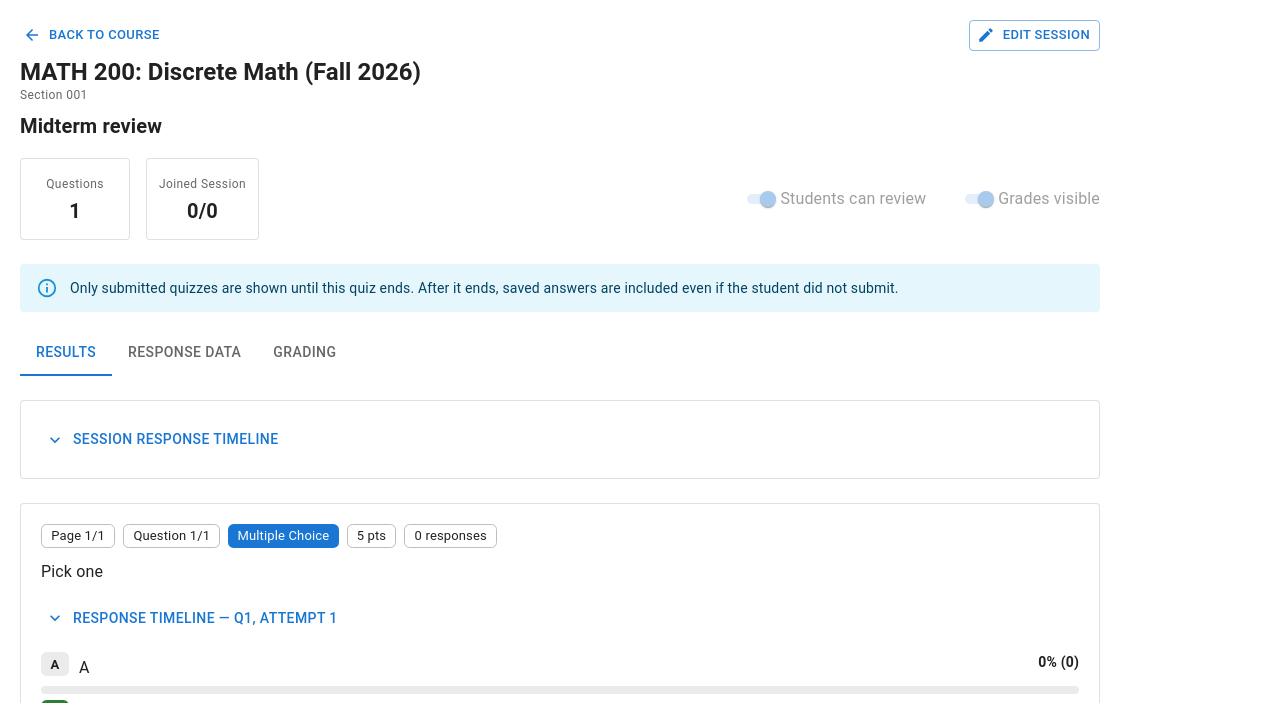
Test: SessionReview › refreshes quiz results on coalesced submissions and ending, without refetching on autosaves
This screenshot has width=1280, height=703.
Expected: the text "Only submitted quizzes are shown" is shown, [70,280,899,296]
Click the tab "Response Data" at [185, 352], box [112,328,257,376]
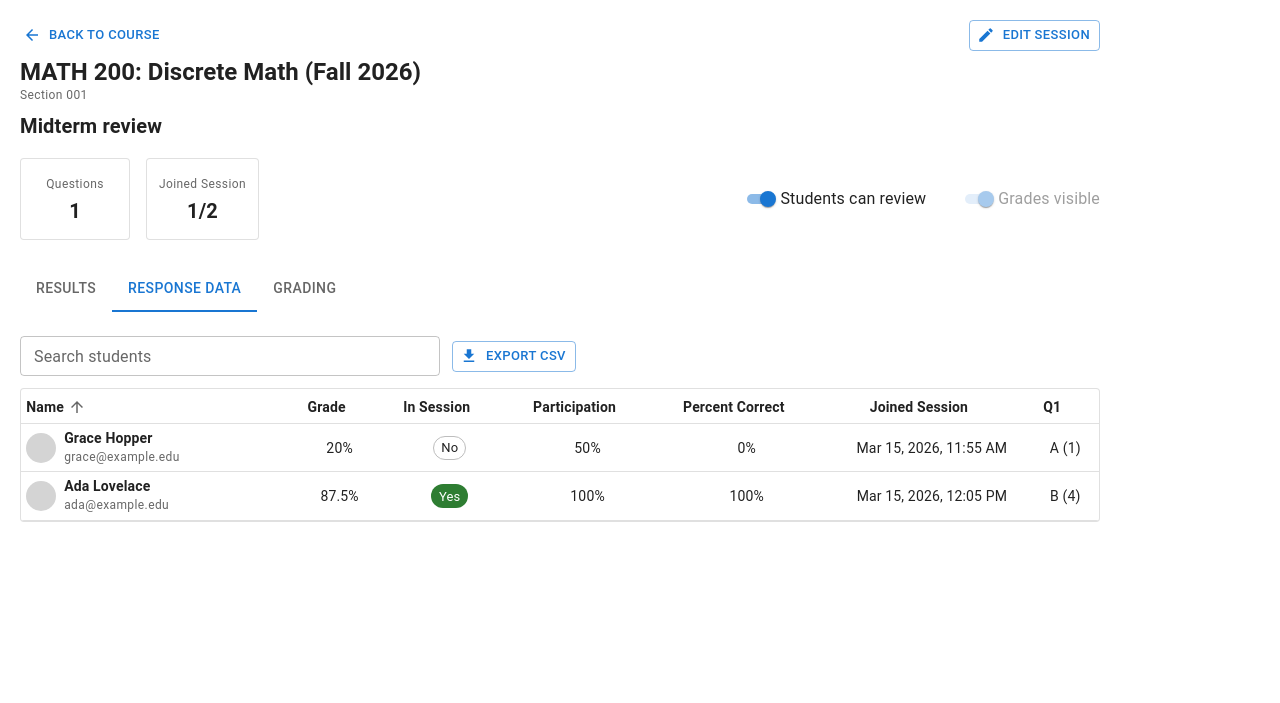
Expected: the text "Ada Lovelace" is shown, [64,478,150,494]
Expected: the text "Grace Hopper" is shown, [64,430,153,446]
Expected: the text "Only submitted quizzes are shown" is gone
